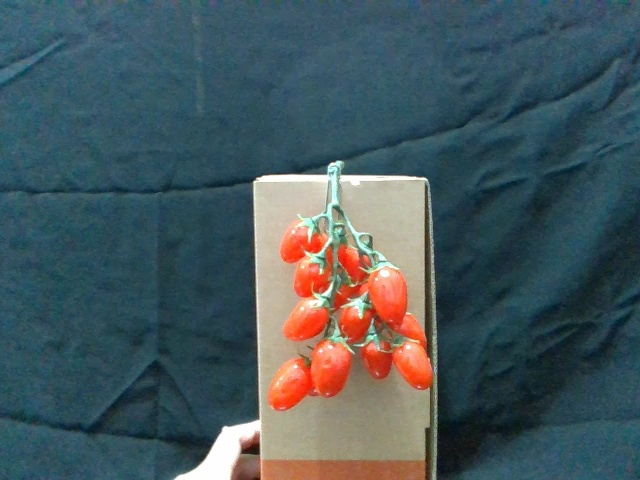tomato: (268, 350, 313, 413), (366, 262, 408, 325), (282, 293, 333, 343), (312, 331, 350, 396), (281, 212, 324, 266), (392, 337, 435, 391), (289, 250, 332, 298), (362, 325, 397, 381), (340, 294, 376, 344)
